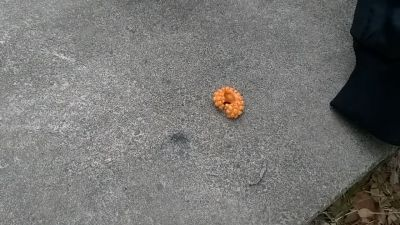eggs: (210, 85, 246, 120)
